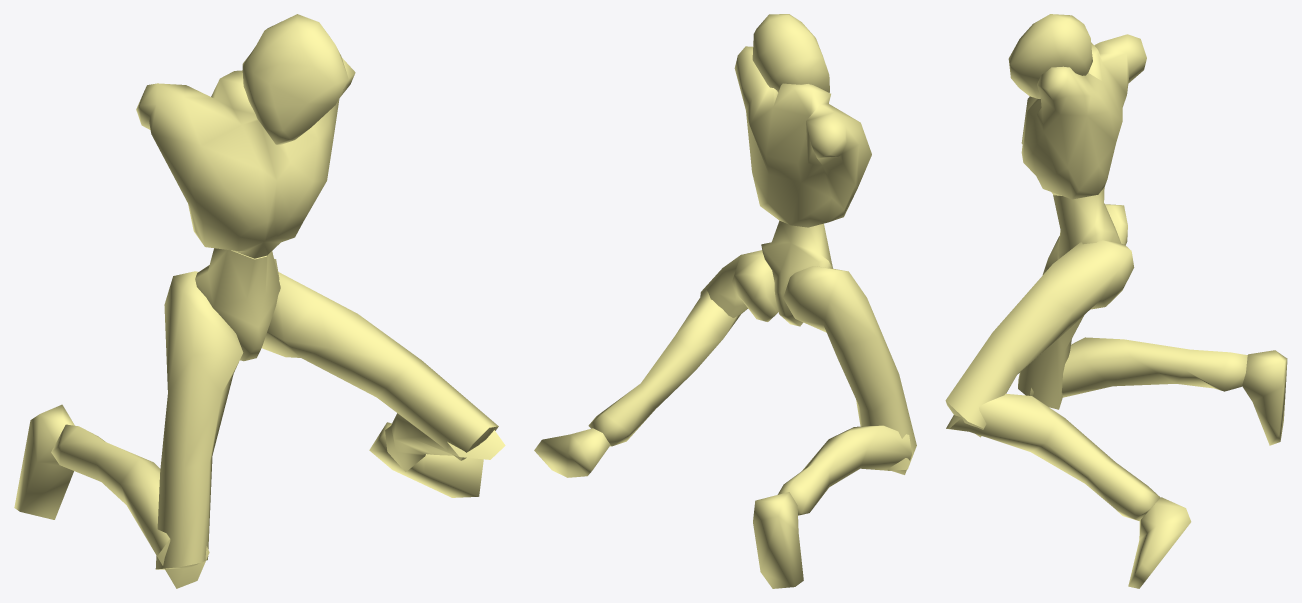
File: filth6.obj
3 views of the same model, side by side, from view 1: azimuth 30°, elevation 25°; view 2: azimuth 150°, elevation 25°; view 3: azimuth 270°, elevation 25° (orthographic). The views are drawn at different scales.
Visible parts, largest first — view 1: Melee_Husk; view 2: Melee_Husk; view 3: Melee_Husk.
Part boxes in pixels (x1,y1,x2,y2): Melee_Husk: (14, 14, 505, 588); Melee_Husk: (534, 14, 916, 588); Melee_Husk: (945, 14, 1287, 588).
Bounding box in the file's own units: 42.25 × 58.07 × 37.44.
